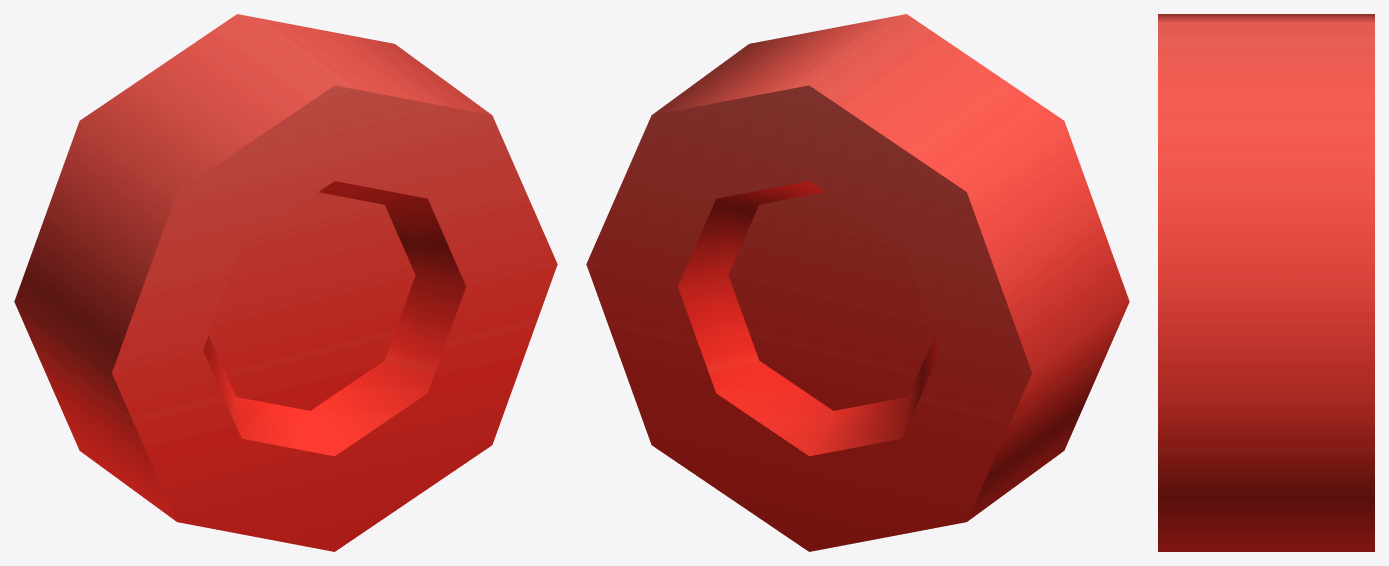
Rendered from item-coin-bronze.fbx.
3 renders of one model, left to right at view 1: azimuth 30°, elevation 25°; view 2: azimuth 150°, elevation 25°; view 3: azimuth 270°, elevation 25°, orthographic. The views are drawn at different scales.
Parts seen in each view (by area): view 1: item-coin-bronze; view 2: item-coin-bronze; view 3: item-coin-bronze.
Part boxes in pixels (x1,y1,x2,y2): item-coin-bronze: (14,14,557,551); item-coin-bronze: (586,14,1129,551); item-coin-bronze: (1158,14,1374,551).
Bounding box in the file's own units: 26.4 × 26.4 × 10.
